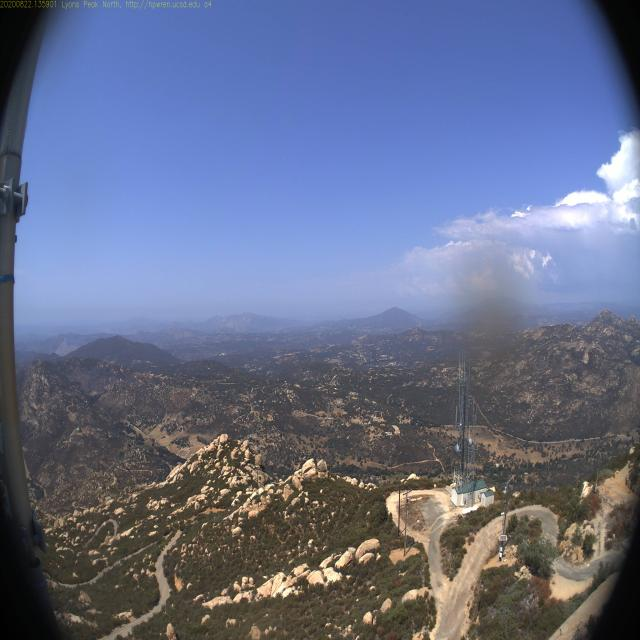smoke: (54, 333, 74, 357)
